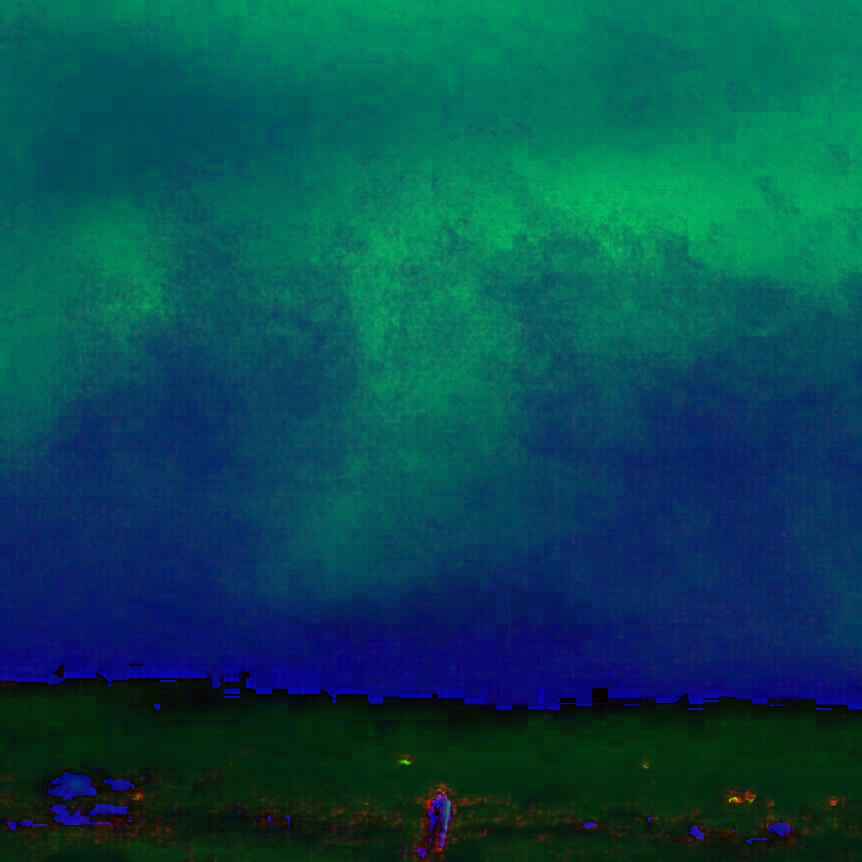rip_current: (273, 258, 581, 639)
